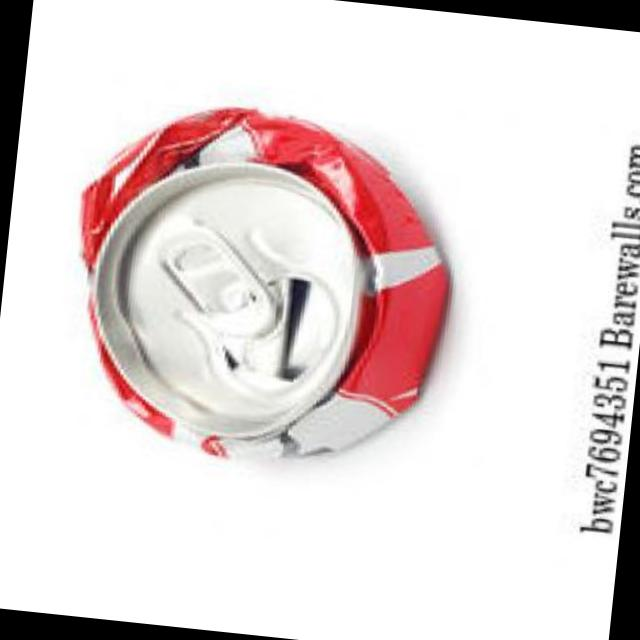metal: (78, 112, 443, 458)
